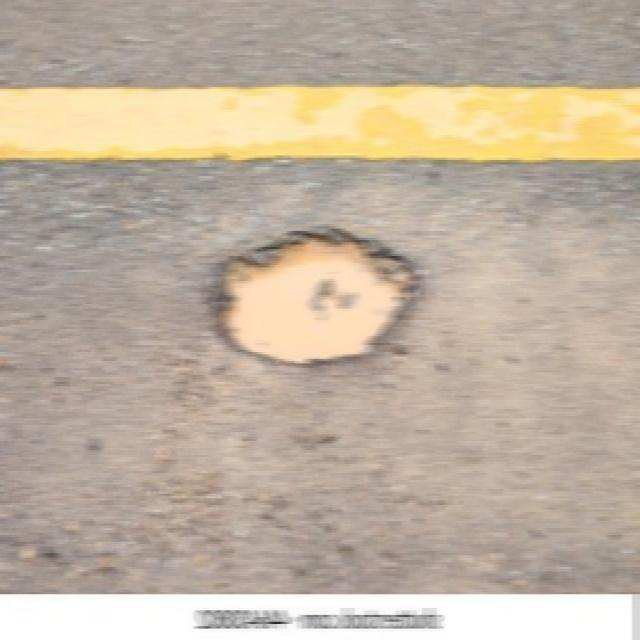Pothole: (200, 221, 430, 373)
